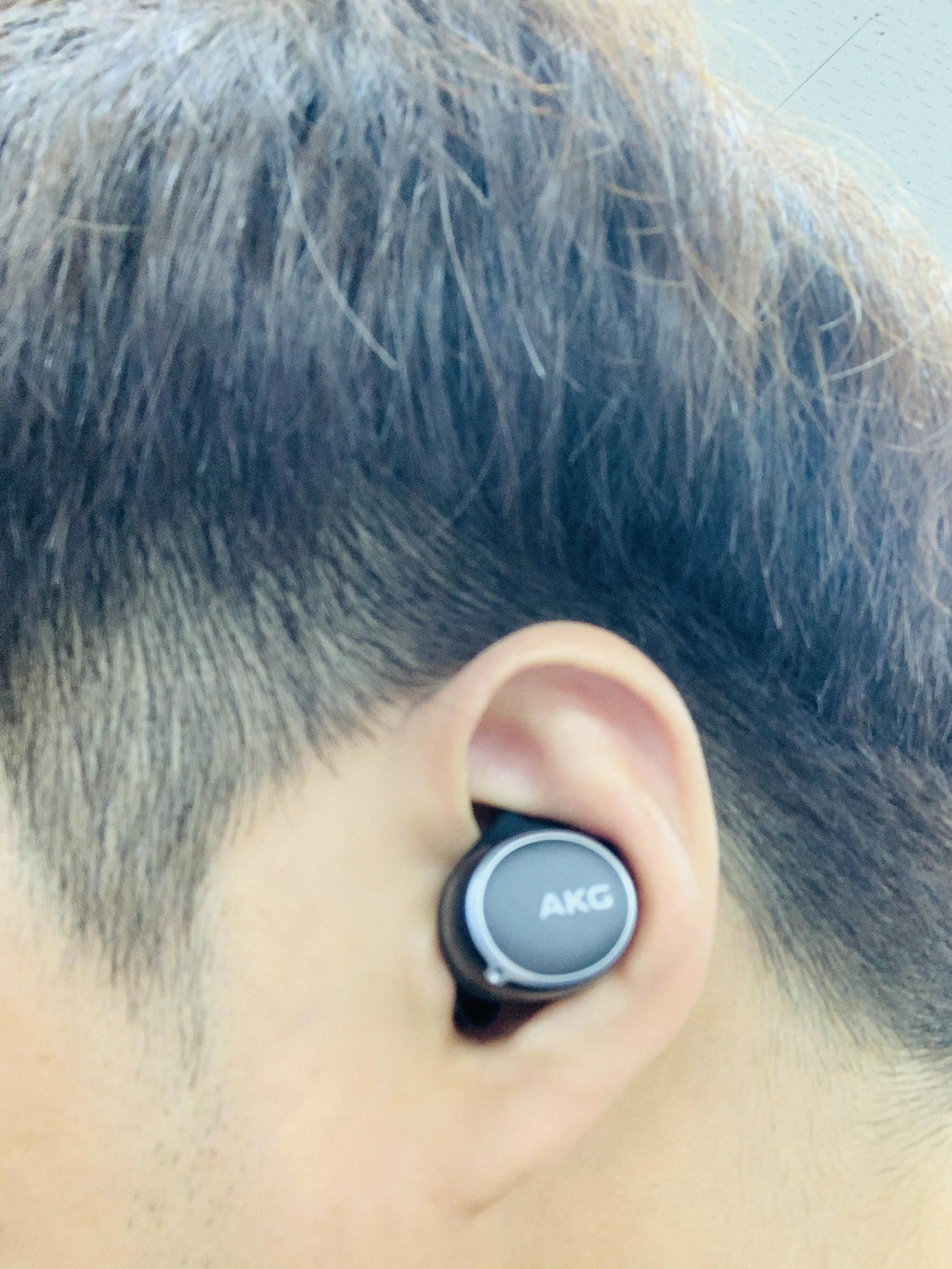earphone: (404, 800, 654, 1044)
